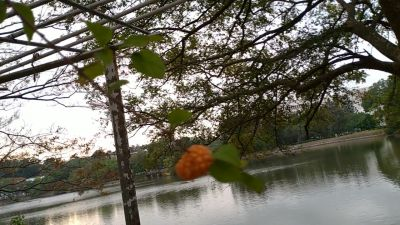eggs: (174, 143, 215, 182)
